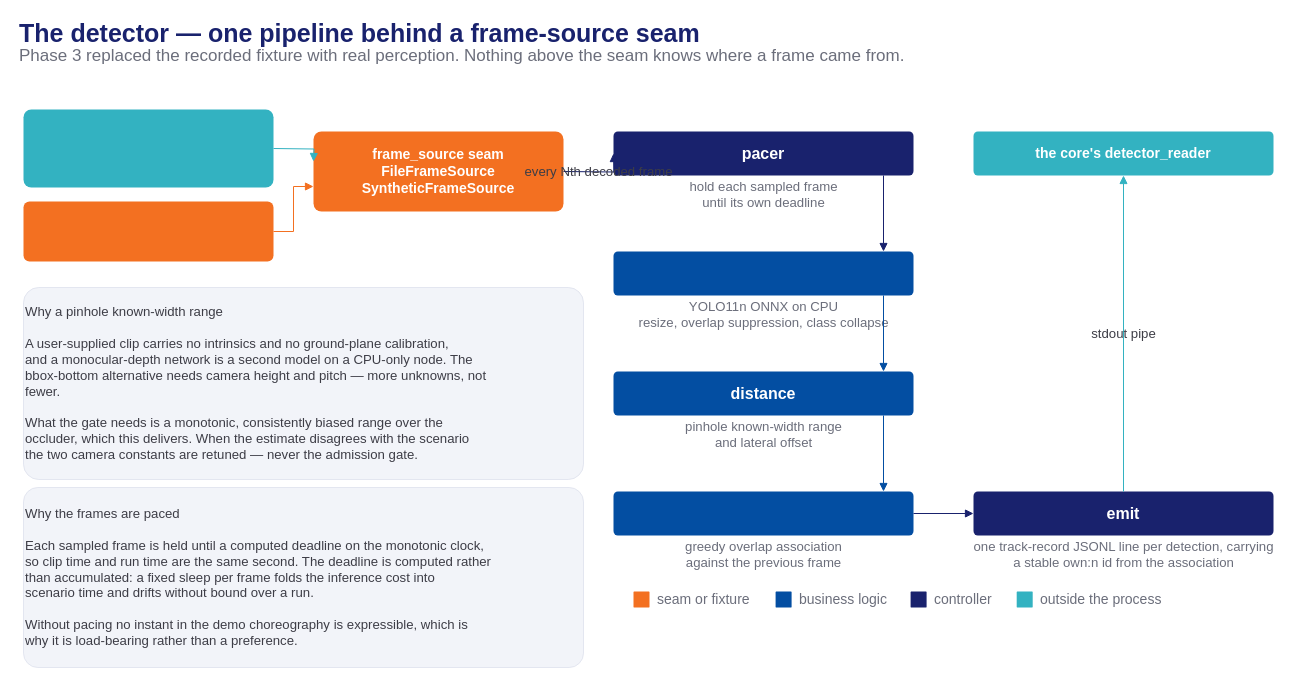
Some shapes in this 1306 by 685 pixel diagram are drawn without their labels. Here are the shapes that lost their labels. From the top down, the box of each, then its label:
(23, 109, 273, 187): the committed clip 1280x720 · 20 fps · 10.0 s an image layer, not a stream
(23, 201, 273, 261): the synthetic clip a CI decode fixture only
(613, 251, 913, 295): inference
(613, 491, 913, 535): tracker
